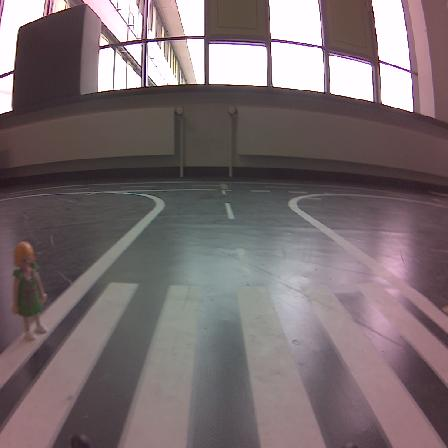PERSON: (13, 242, 46, 340)
